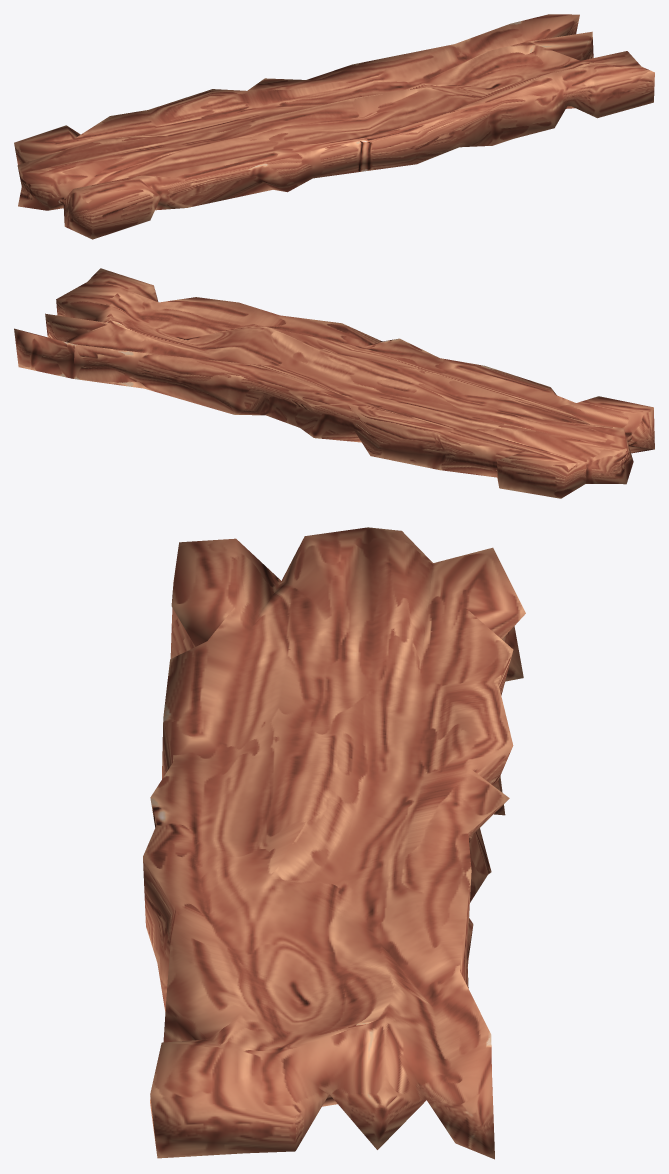
Rendered from plank2.fbx.
3 renders of one model, top to bottom at view 1: azimuth 30°, elevation 25°; view 2: azimuth 150°, elevation 25°; view 3: azimuth 270°, elevation 25°, orthographic. The views are drawn at different scales.
Visible parts, largest first — view 1: WoodPlankLP; view 2: WoodPlankLP; view 3: WoodPlankLP.
Part boxes in pixels (box(x1,y1,x2,y2)): WoodPlankLP: box(14, 14, 654, 239); WoodPlankLP: box(14, 268, 654, 498); WoodPlankLP: box(143, 527, 525, 1159).
Size of the model in its own units: 727 by 64.12 by 204.
1 material, 1 textured.
